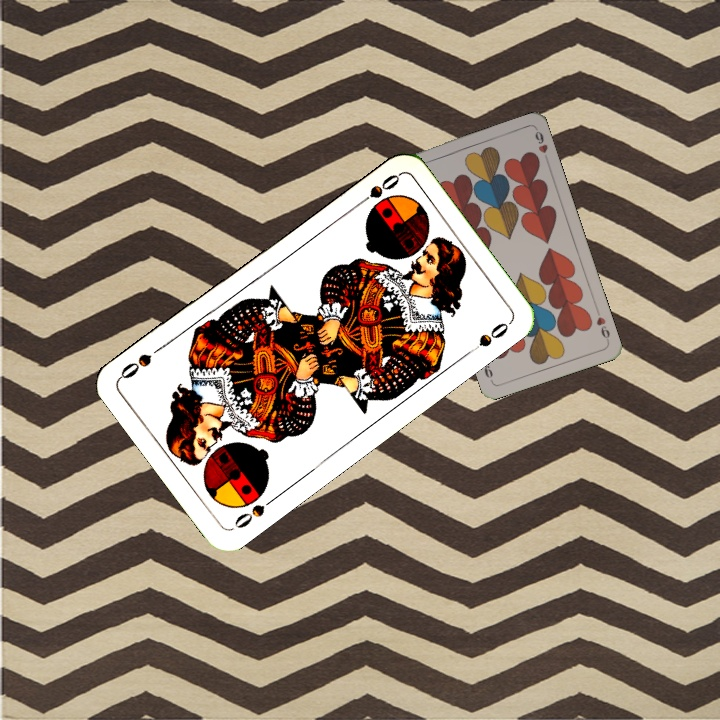H9: (592, 305, 612, 344)
SO: (350, 170, 403, 210), (230, 492, 280, 531)
